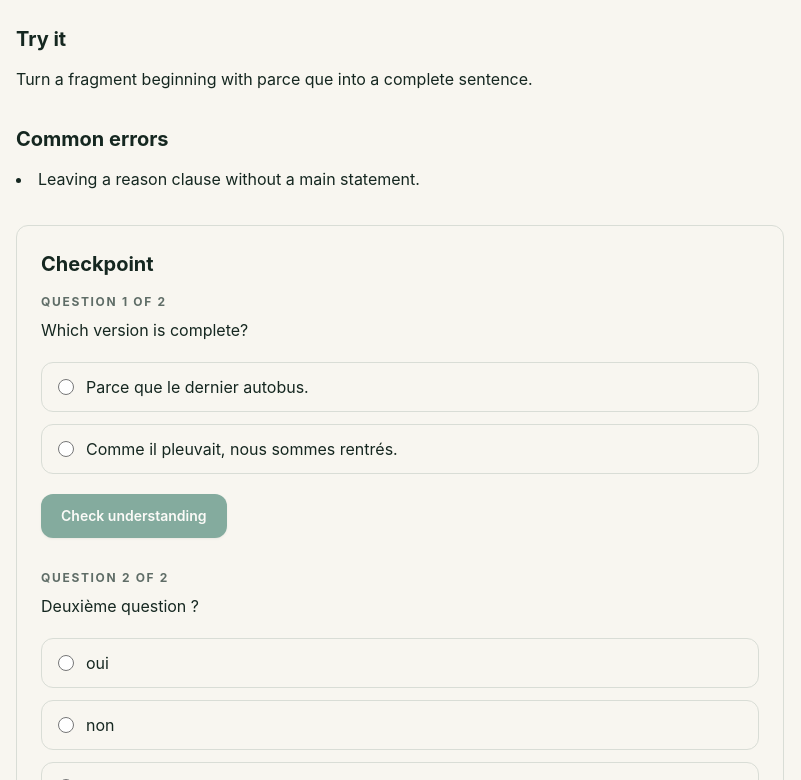
lesson checkpoints › completes only after every checkpoint is answered
(page scrolled)
Expected: the text "Question 1 of 2" is shown, [41,294,167,309]
Click the radio button labelled "Parce que le dernier autobus." at (66, 387), box [58,379,74,395]
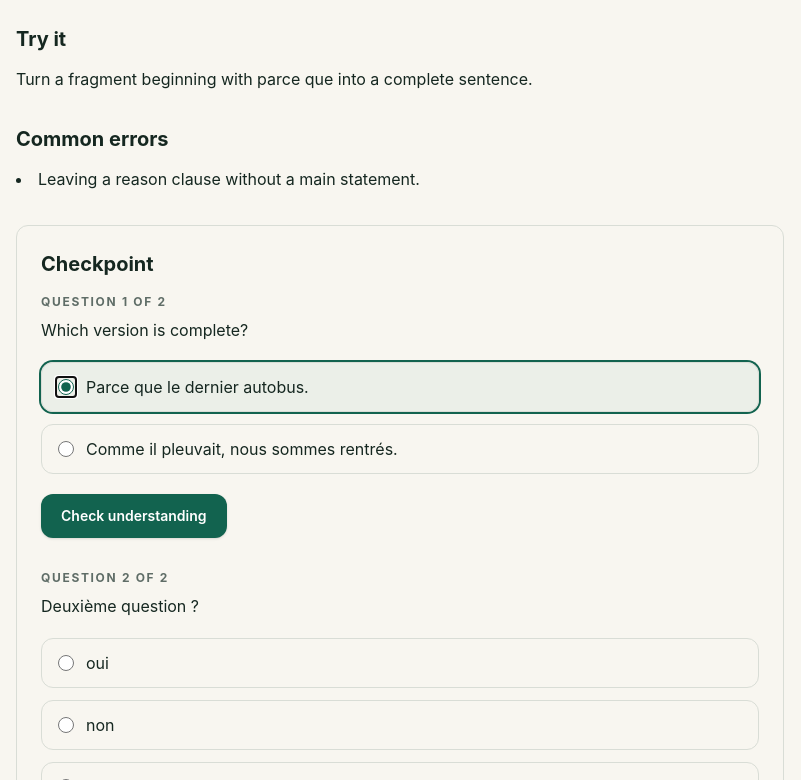
Click the button "Check understanding" at (134, 516), box [41,494,227,538]
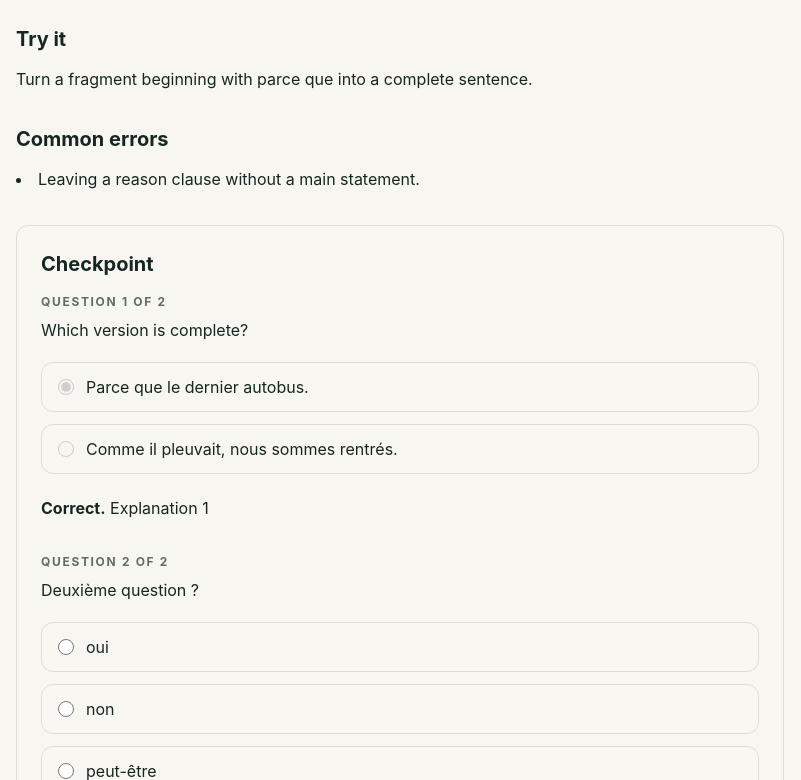
Expected: the text "Explanation 1" is shown, [110,498,209,518]
Click the radio button labelled "oui" at (66, 647), box [58,639,74,655]
(page scrolled)
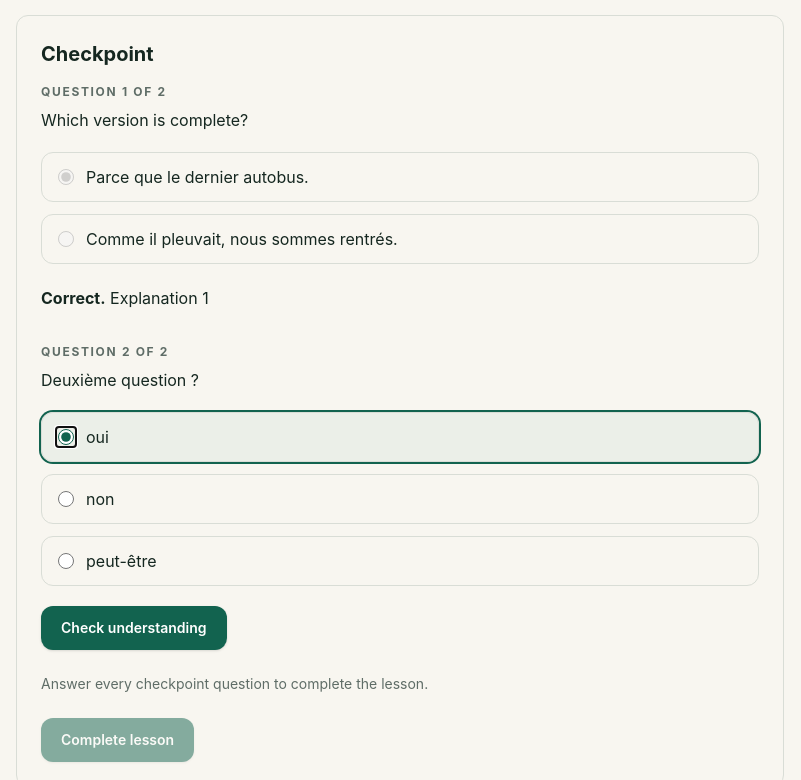
Click the button "Check understanding" at (134, 628), box [41,606,227,650]
(page scrolled)
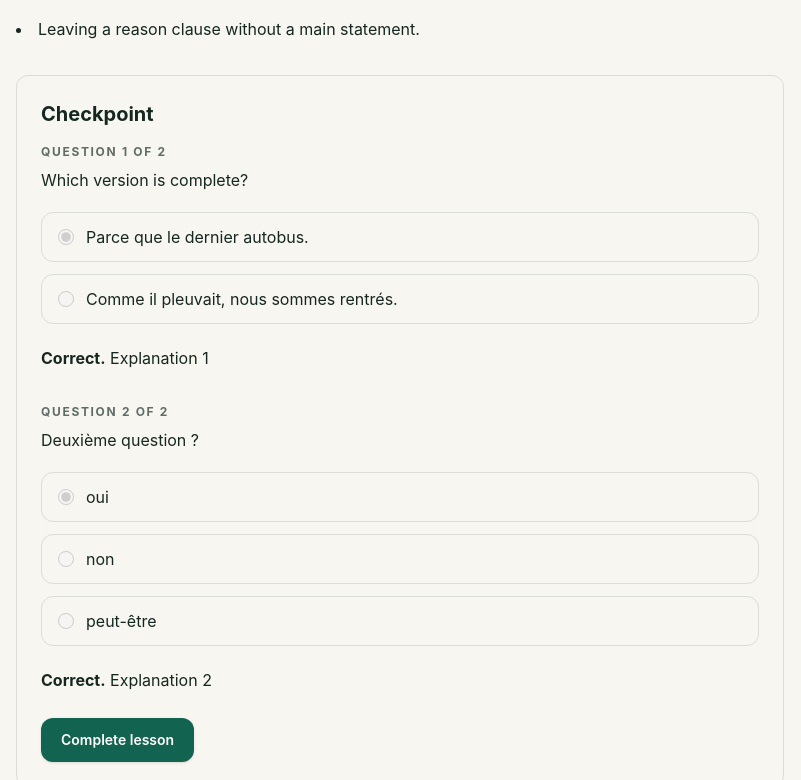
Expected: the text "Explanation 2" is shown, [110,670,212,690]
Expected: the button "Complete lesson" is enabled, [41,718,194,762]
